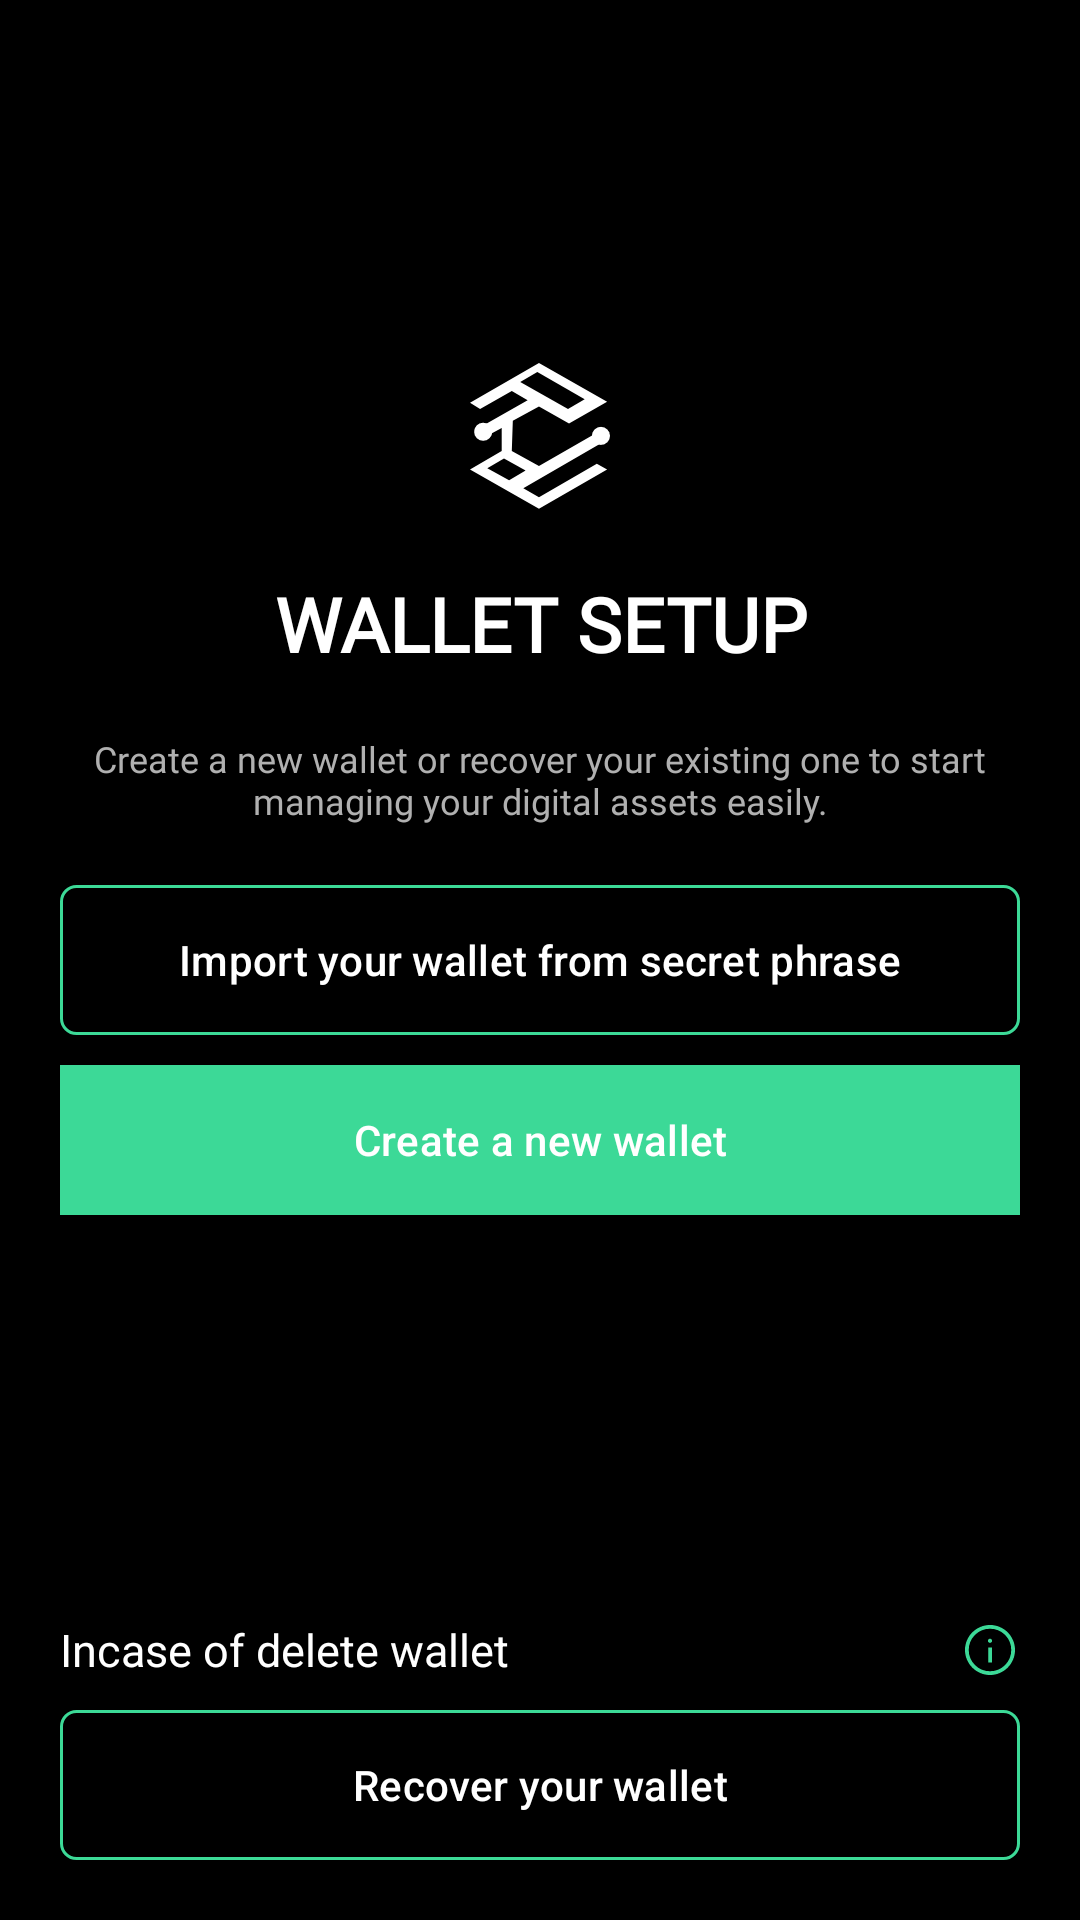

Point at icon controls on the screen. Image size 1080*1920, points as (x,y).
info: (990,1650)
